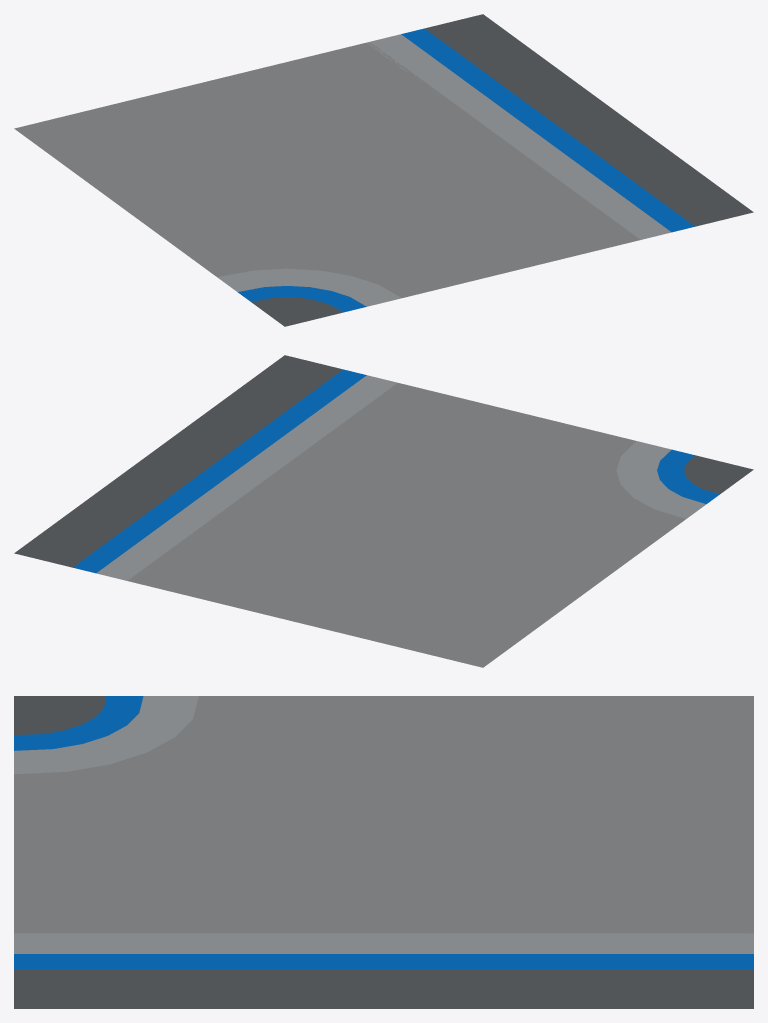
File: Ceiling_type_B_034.002.fbx
The picture shows the model from 3 angles, top to bottom: view 1: azimuth 30°, elevation 25°; view 2: azimuth 150°, elevation 25°; view 3: azimuth 270°, elevation 25°; orthographic projection. The views are drawn at different scales.
Parts seen in each view (by area): view 1: Ceiling_type_B_034.002; view 2: Ceiling_type_B_034.002; view 3: Ceiling_type_B_034.002.
Part boxes in pixels (left/top/right/bottom): Ceiling_type_B_034.002: left=14, top=14, right=753, bottom=326; Ceiling_type_B_034.002: left=14, top=355, right=753, bottom=667; Ceiling_type_B_034.002: left=14, top=696, right=753, bottom=1008.
Size of the model in its own units: 400 by 400 by 1.2.
